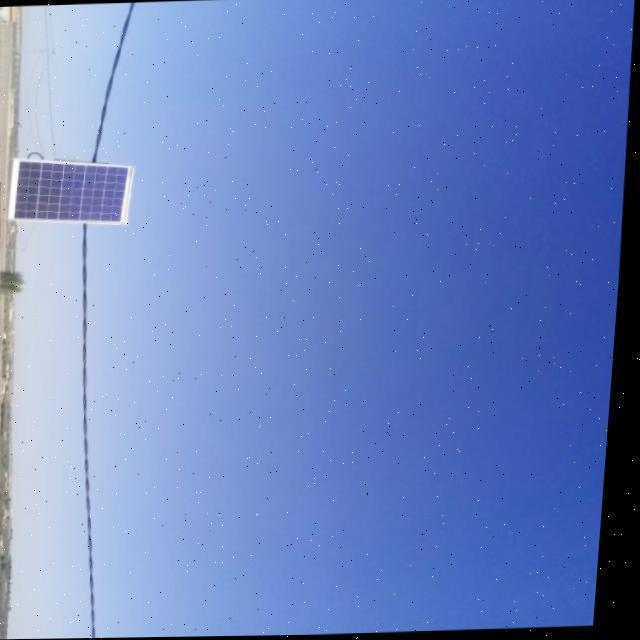Normal Solar Panel: (9, 152, 136, 225)
